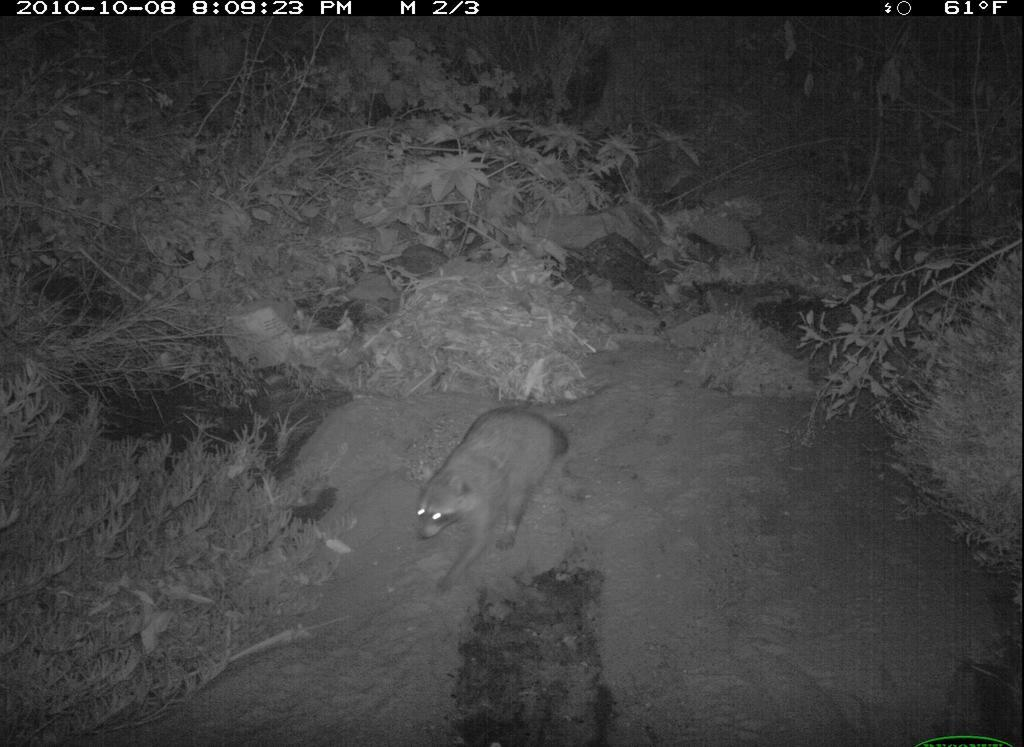raccoon: (410, 402, 577, 598)
